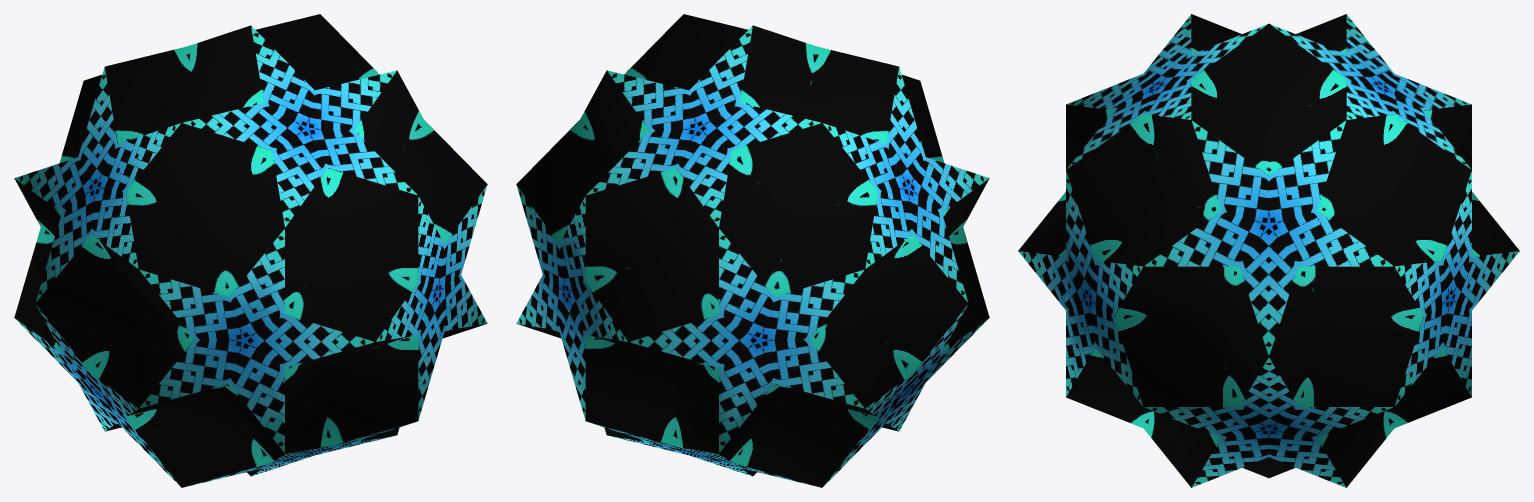
Rendered from 36Dodecadodecahedron.gltf.
3 views of the same model, side by side, from view 1: azimuth 30°, elevation 25°; view 2: azimuth 150°, elevation 25°; view 3: azimuth 270°, elevation 25° (orthographic).
Visible parts, largest first — view 1: 25Dodecadodecahedron; view 2: 25Dodecadodecahedron; view 3: 25Dodecadodecahedron.
Part boxes in pixels (x1=…): 25Dodecadodecahedron: x1=14, y1=14, x2=487, y2=487; 25Dodecadodecahedron: x1=516, y1=14, x2=989, y2=487; 25Dodecadodecahedron: x1=1018, y1=14, x2=1519, y2=487.
Size of the model in its own units: 2 by 2 by 2.
1 material, 1 textured.
